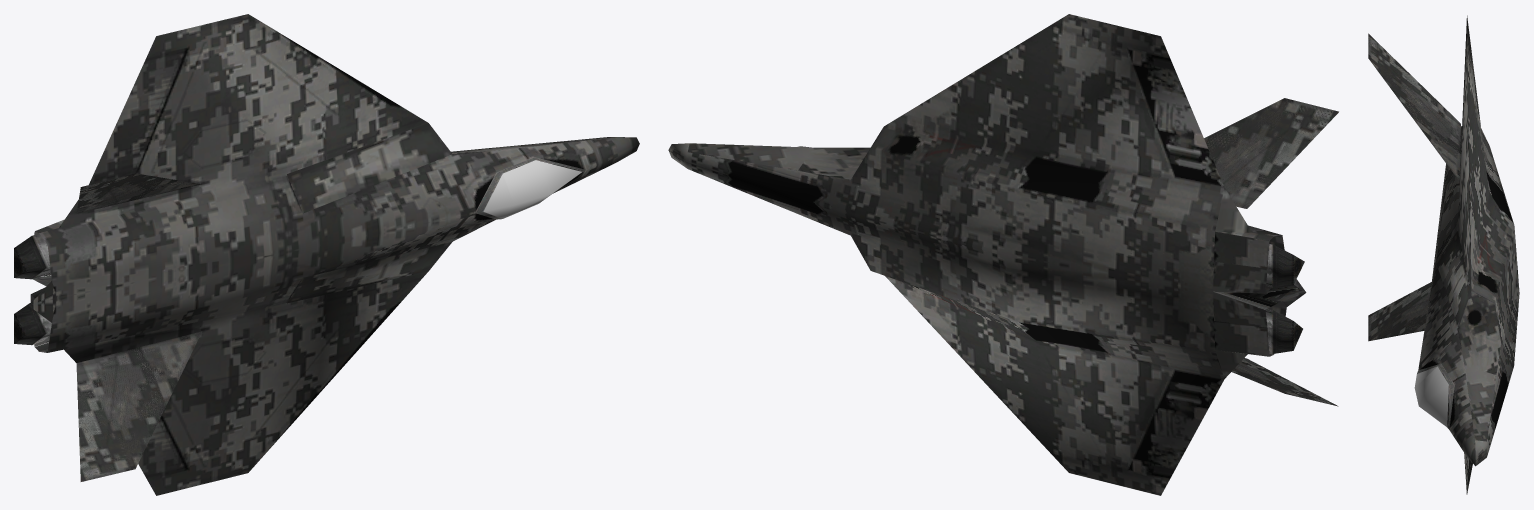
Rendered from veh_t6_air_fa38_killstreak_alt_LOD2.obj.
The picture shows the model from 3 angles, left to right: view 1: azimuth 30°, elevation 25°; view 2: azimuth 150°, elevation 25°; view 3: azimuth 270°, elevation 25°; orthographic projection. The views are drawn at different scales.
Parts seen in each view (by area): view 1: mtl_veh_t6_air_fa38_body_enemy, mtl_veh_t6_air_fa38_glass_outside_low, mtl_veh_t6_air_fa38_cockpit_low; view 2: mtl_veh_t6_air_fa38_body_enemy; view 3: mtl_veh_t6_air_fa38_body_enemy, mtl_veh_t6_air_fa38_glass_outside_low, mtl_veh_t6_air_fa38_cockpit_low.
Part boxes in pixels (x1,y1,x2,y2): mtl_veh_t6_air_fa38_body_enemy: [14, 14, 639, 495]; mtl_veh_t6_air_fa38_glass_outside_low: [483, 160, 581, 218]; mtl_veh_t6_air_fa38_cockpit_low: [475, 157, 585, 219]; mtl_veh_t6_air_fa38_body_enemy: [668, 14, 1338, 495]; mtl_veh_t6_air_fa38_body_enemy: [1368, 15, 1519, 494]; mtl_veh_t6_air_fa38_glass_outside_low: [1414, 366, 1448, 426]; mtl_veh_t6_air_fa38_cockpit_low: [1417, 363, 1454, 429].
Size of the model in its own units: 1506 by 1058 by 330.
